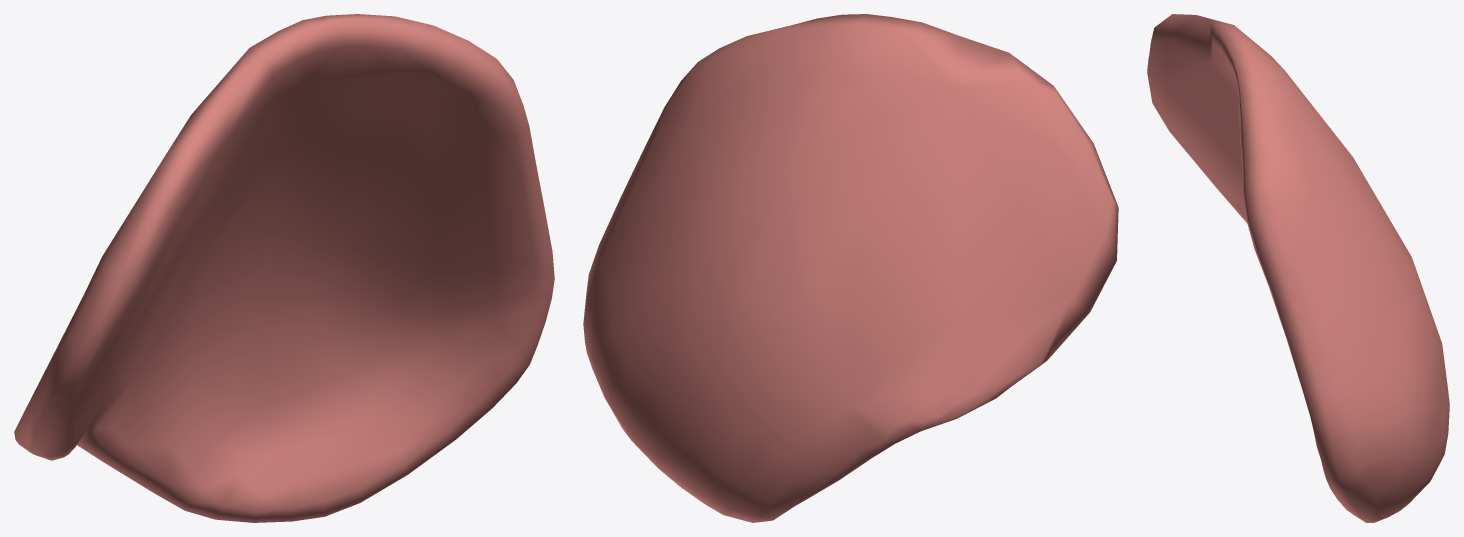
The picture shows the model from 3 angles, left to right: view 1: azimuth 30°, elevation 25°; view 2: azimuth 150°, elevation 25°; view 3: azimuth 270°, elevation 25°; orthographic projection. The views are drawn at different scales.
Visible parts, largest first — view 1: ZA_71a36c80f9fb2f33; view 2: ZA_71a36c80f9fb2f33; view 3: ZA_71a36c80f9fb2f33.
Part boxes in pixels (x1,y1,x2,y2): ZA_71a36c80f9fb2f33: (14,14,554,522); ZA_71a36c80f9fb2f33: (583,14,1118,522); ZA_71a36c80f9fb2f33: (1147,14,1449,522).
Size of the model in its own units: 0.00628 by 0.00594 by 0.0037.
